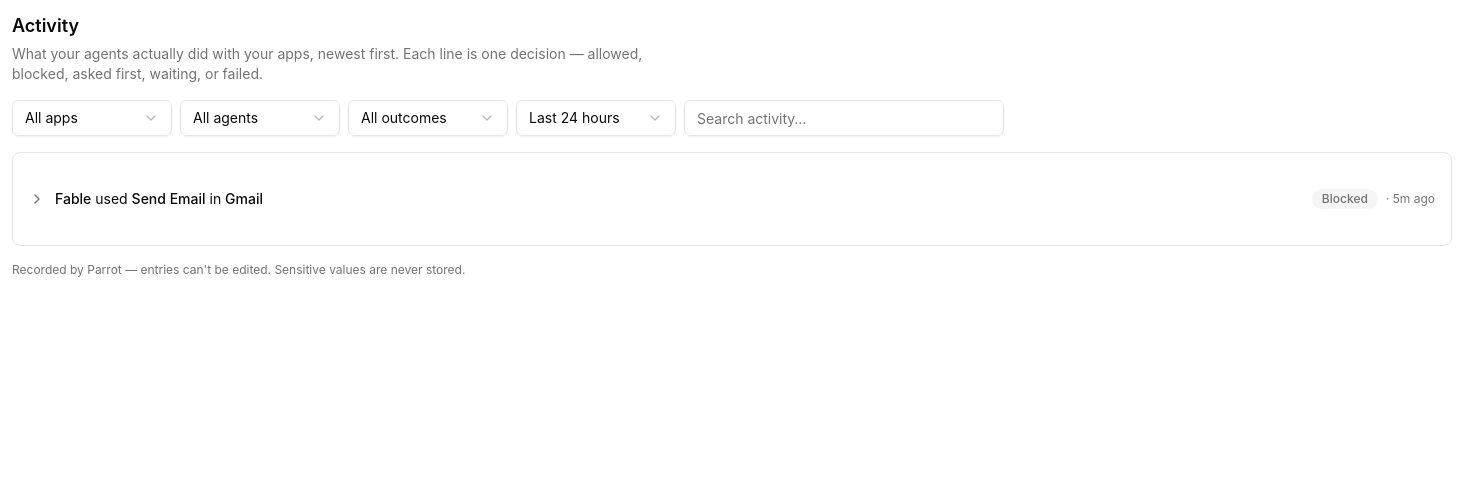
Test: AuditTab › expands a row to show the plain reason, the linked rule, and the Details collapse
The image size is (1464, 485).
Click the button "Fable used Send Email in Gmail Blocked · 5m ago" at (73, 198), box x1=13 y1=177 x2=1451 y2=221
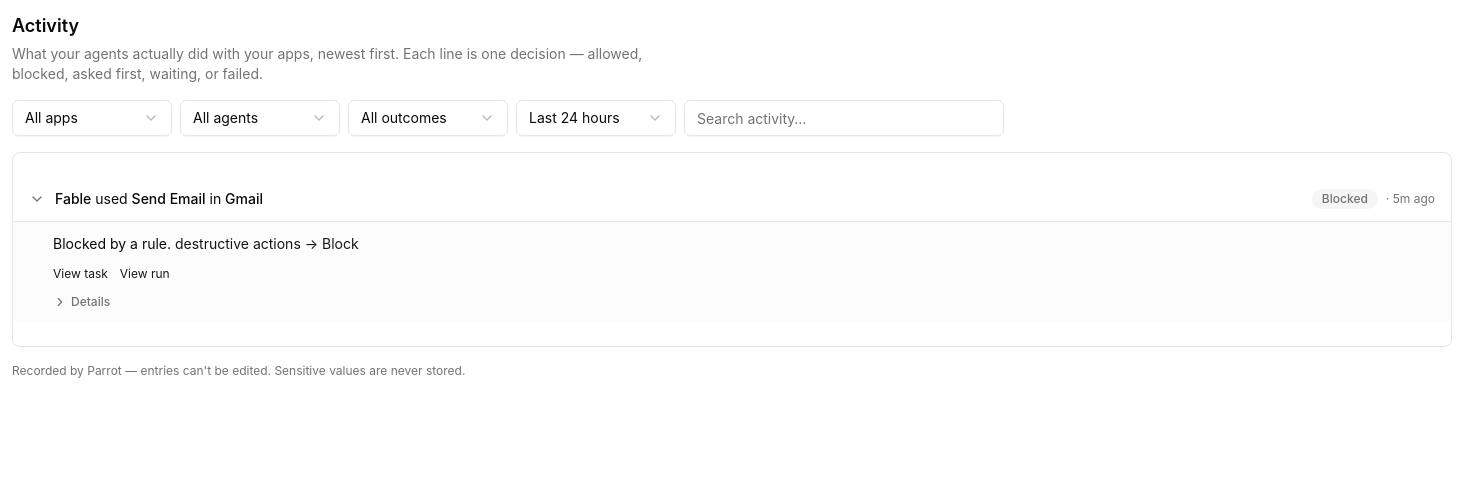
Check: the text "mail:send_email" is not shown
Check: the text "Blocked by a rule." is shown, box x1=53 y1=235 x2=171 y2=252
Check: the button "Details" is shown
Click the button "Details" at (82, 302), box x1=53 y1=294 x2=110 y2=310
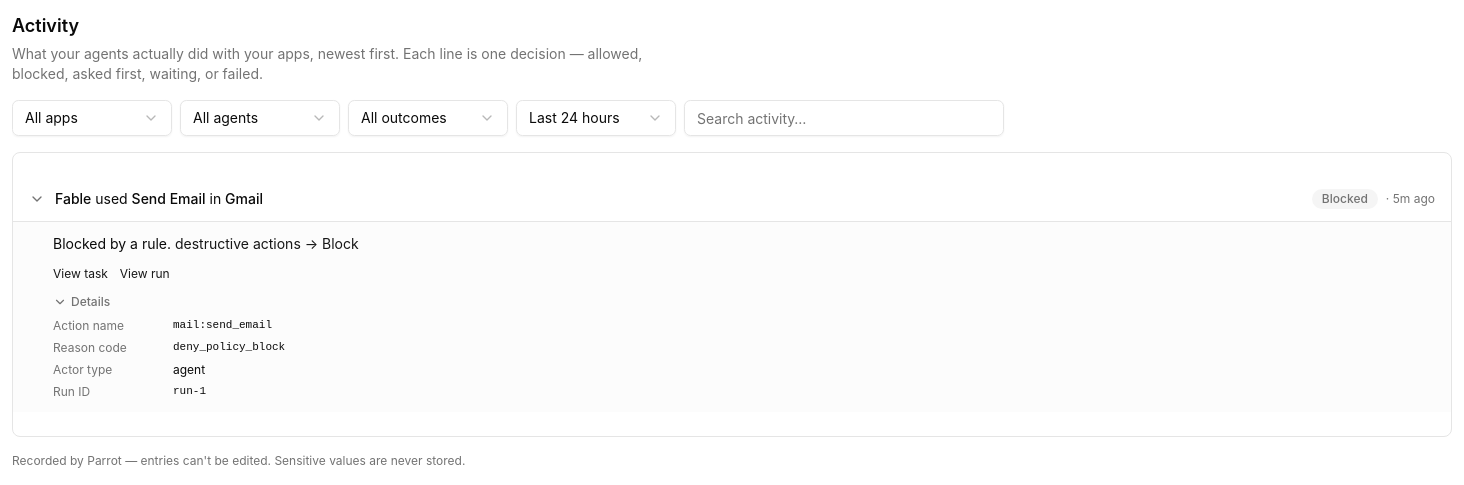
Check: the text "mail:send_email" is shown, box x1=173 y1=318 x2=272 y2=334
Check: the text "deny_policy_block" is shown, box x1=173 y1=340 x2=285 y2=356
